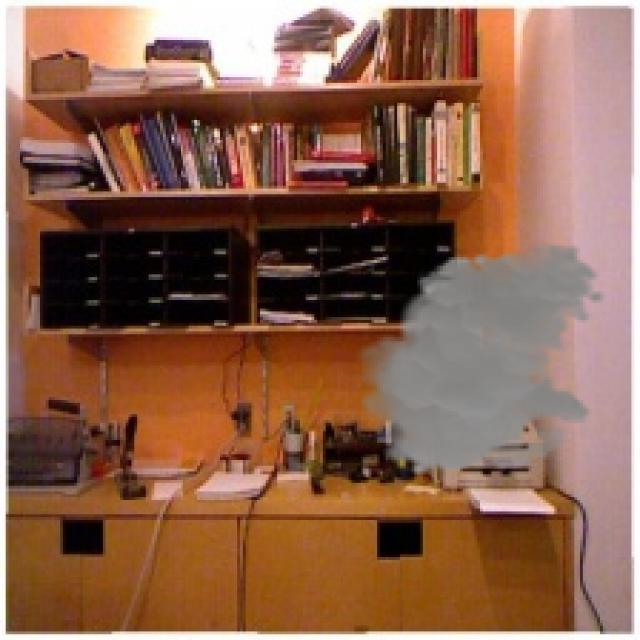smoke: (348, 243, 606, 477)
